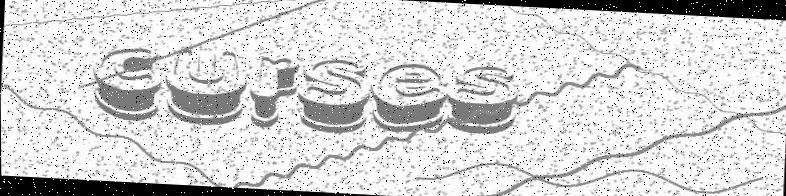c: (89, 44, 163, 124)
e: (368, 60, 448, 136)
r: (246, 56, 300, 131)
s: (294, 57, 373, 137), (444, 64, 520, 137)
u: (162, 45, 249, 128)
